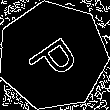P_NE: (21, 26, 85, 86)
